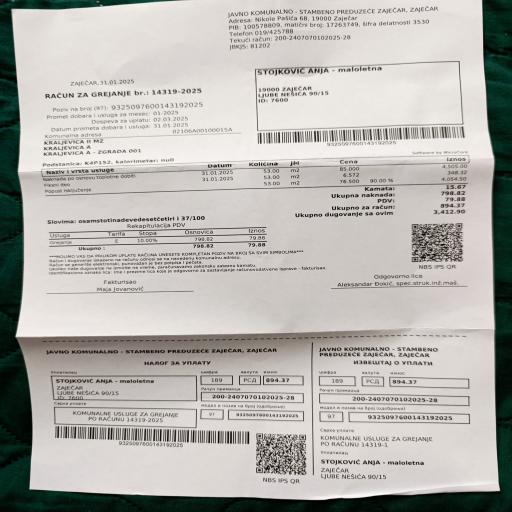racun_za_grejanje: (38, 155, 470, 219)
